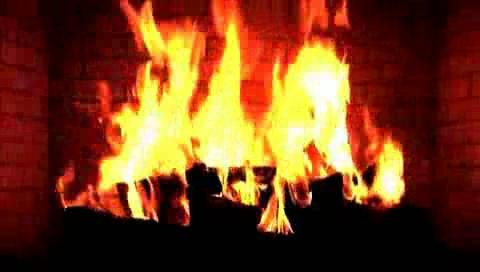fire: (64, 0, 480, 237)
